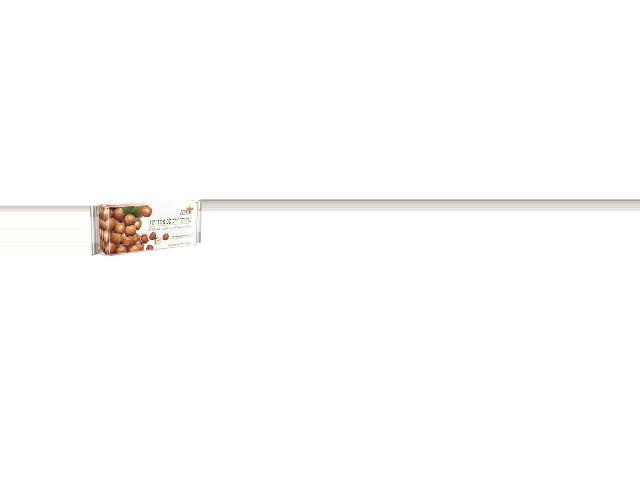chocolate: (91, 203, 202, 256)
